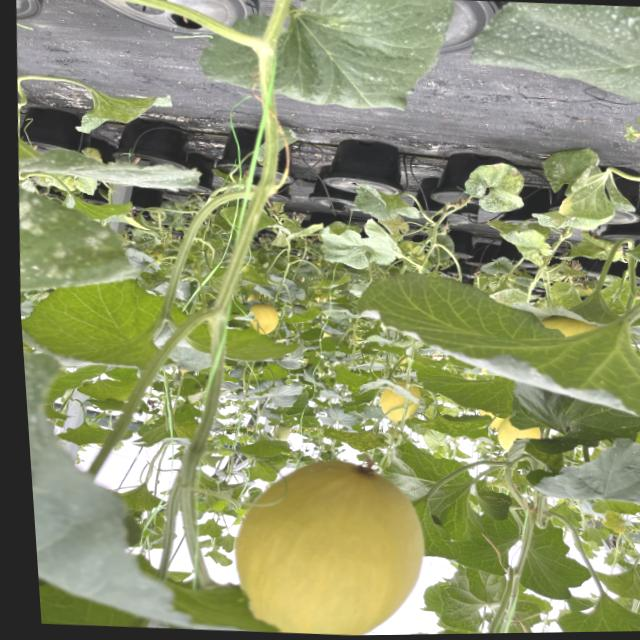downy mildew: (65, 87, 176, 140), (317, 226, 399, 274), (463, 160, 532, 216)
healthy: (523, 433, 640, 509)
